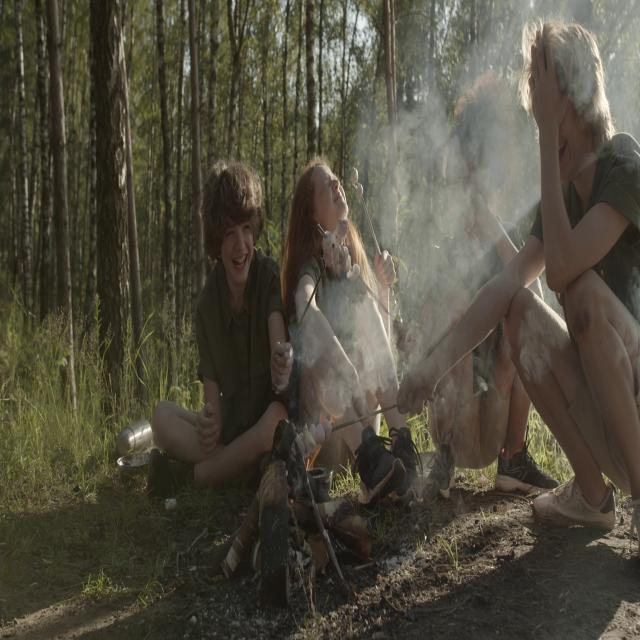Smoke: (321, 0, 543, 452)
